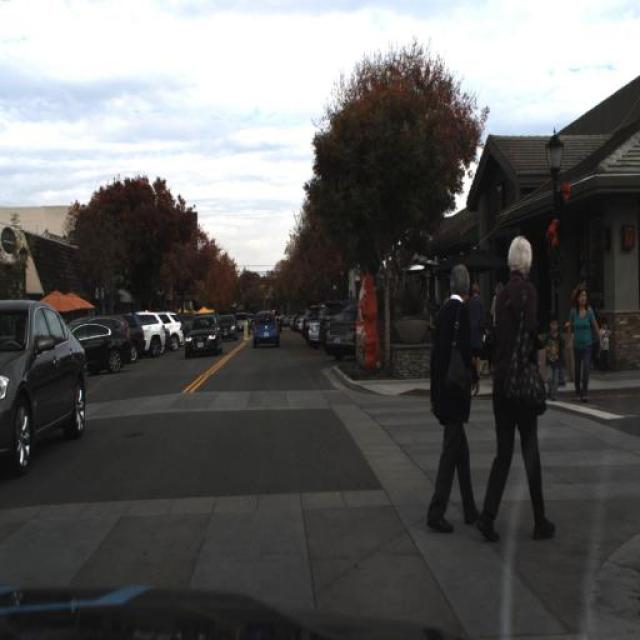car: (0, 298, 91, 468), (64, 316, 131, 378), (322, 298, 362, 361), (130, 307, 168, 362), (178, 309, 222, 356), (249, 307, 282, 349), (214, 314, 243, 348)
trafficLight: (479, 228, 559, 556), (424, 262, 484, 554), (567, 286, 604, 405)
